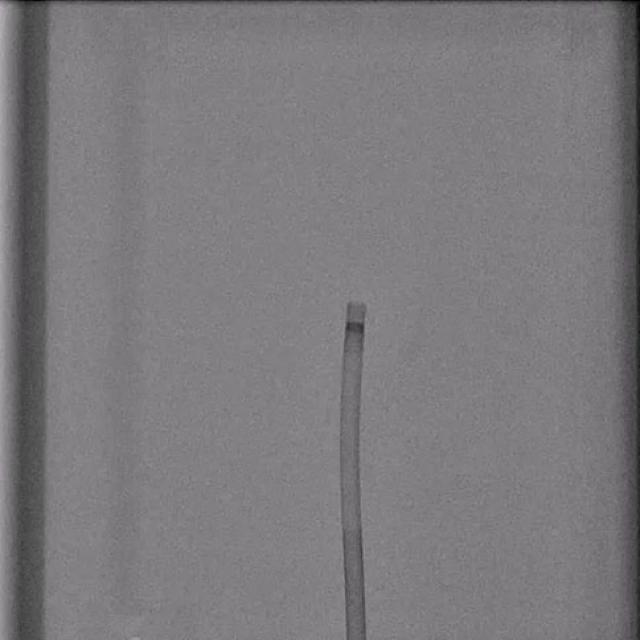bend: (341, 514, 363, 529)
entry: (346, 636, 367, 640)
marker: (346, 318, 366, 336)
tip: (347, 300, 366, 307)
